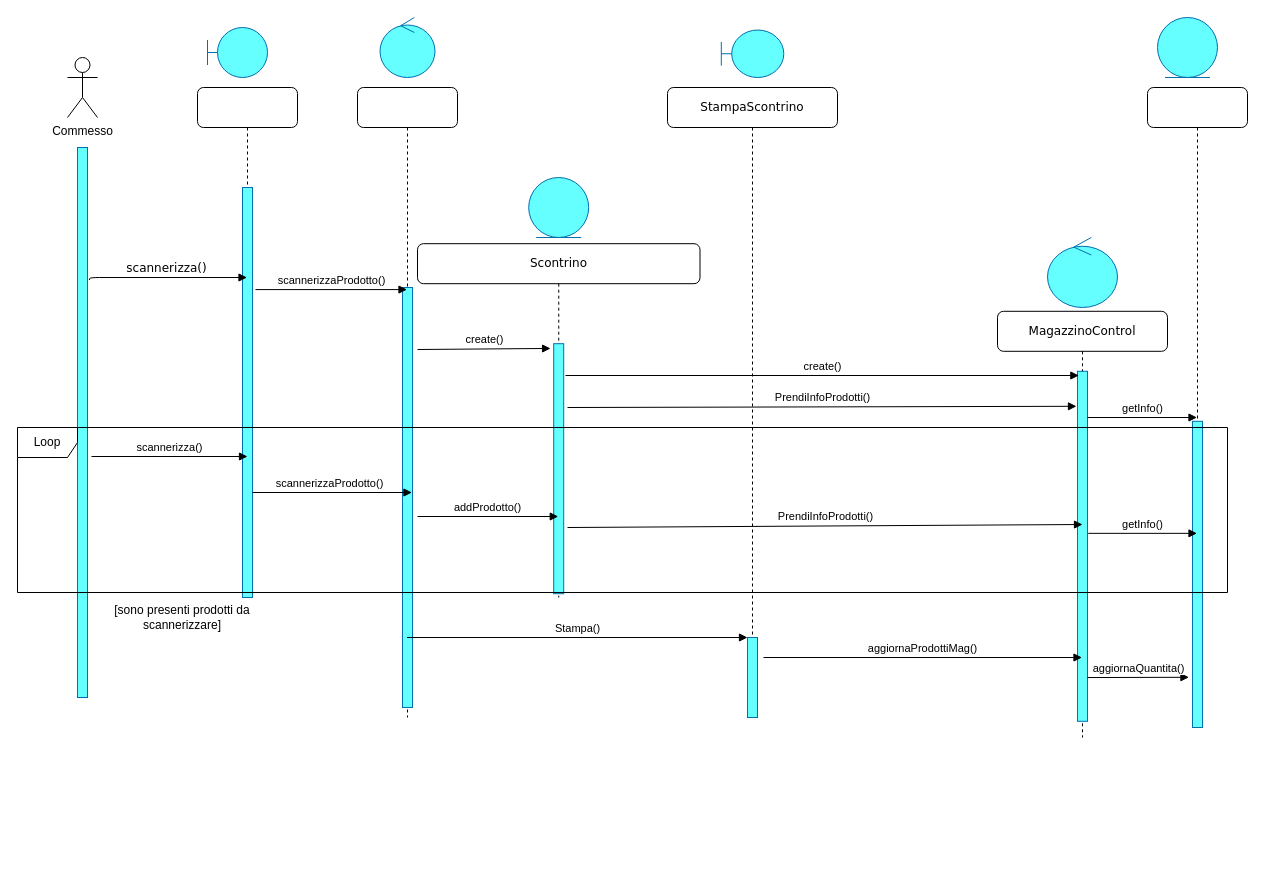
Some shapes in this 1265 by 893 pixel diagram are drawn without their labels. The shapes that lost their labels are listed below. From the top down, each one's box as (x1, y1, x2, y2) in pixels, then its label:
(196, 86, 298, 598): ScannerProdotti
(356, 86, 458, 718): ScannerProdotti Control
(1146, 86, 1248, 728): Prodotto
